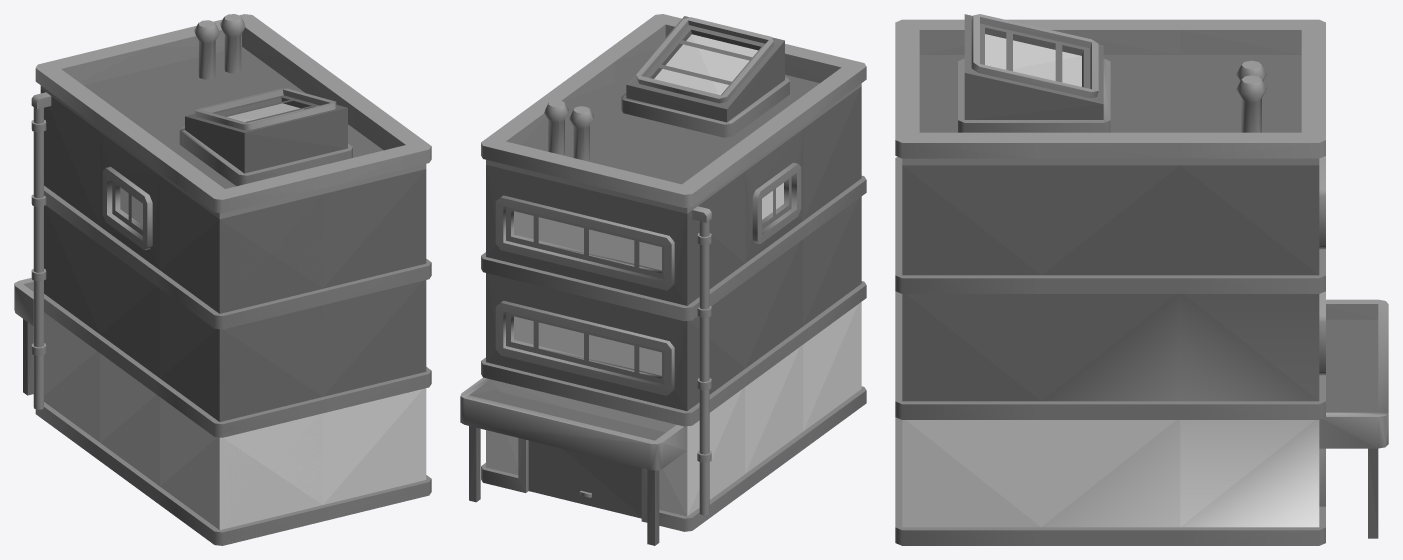
Rendered from tech_center.glb.
3 renders of one model, left to right at view 1: azimuth 30°, elevation 25°; view 2: azimuth 150°, elevation 25°; view 3: azimuth 270°, elevation 25°, orthographic. The views are drawn at different scales.
Visible parts, largest first — view 1: Body; view 2: Body; view 3: Body.
Part boxes in pixels (x1,y1,x2,y2): Body: [14, 14, 431, 545]; Body: [460, 14, 866, 545]; Body: [895, 14, 1388, 545].
Size of the model in its own units: 8.71 by 13.95 by 14.
Materials: 2 (1 with a texture image).
